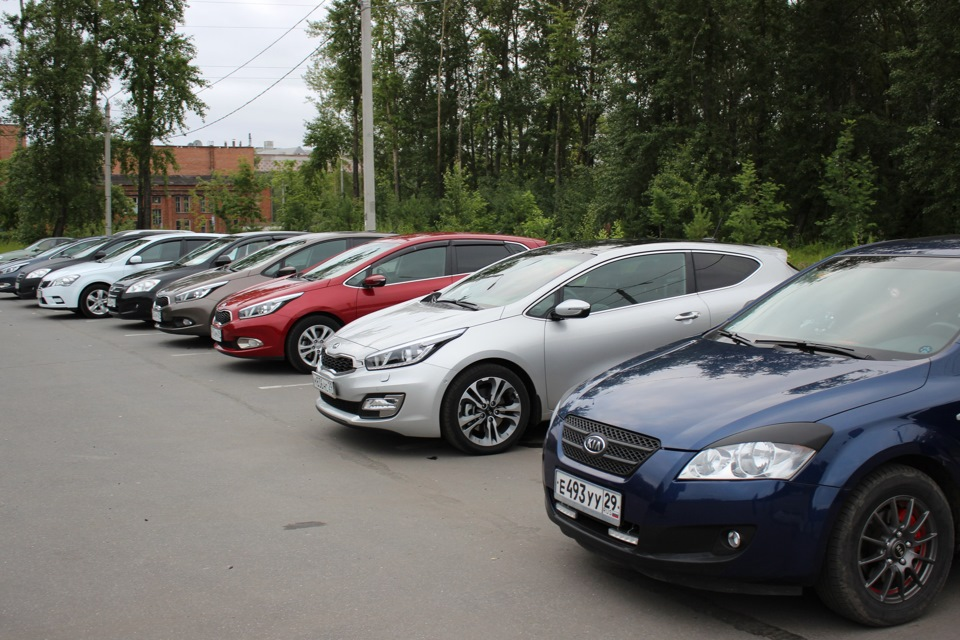Car: (542, 237, 960, 627), (312, 241, 803, 455), (210, 233, 546, 372), (151, 232, 402, 338), (108, 231, 302, 322), (38, 232, 227, 318), (15, 229, 194, 297), (0, 236, 109, 294), (0, 237, 78, 264)
